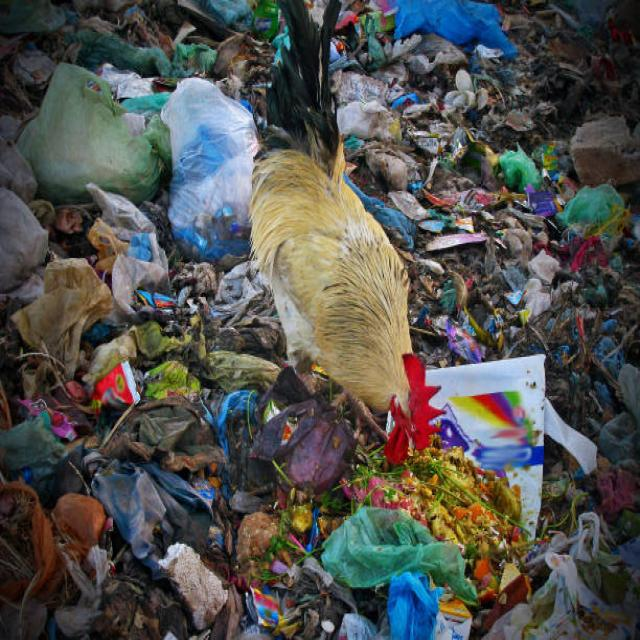trash: (14, 41, 586, 592)
